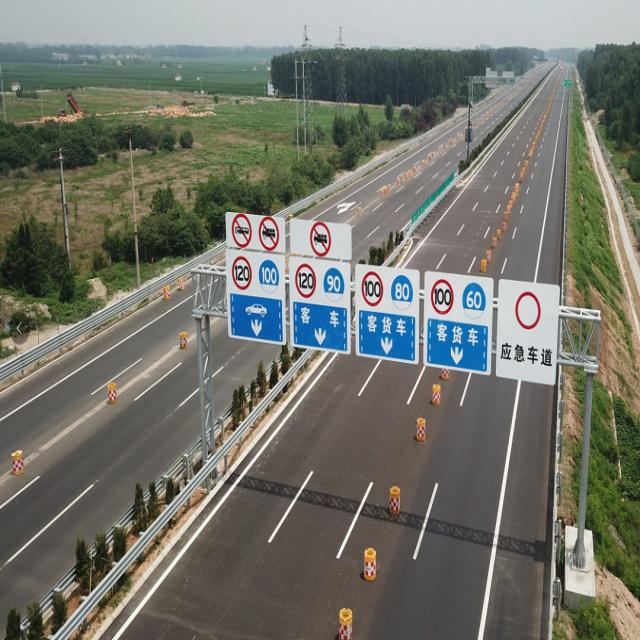speed limit 100: (432, 277, 454, 316), (258, 258, 280, 295), (362, 270, 383, 307)
speed limit 120: (230, 253, 252, 291), (294, 262, 316, 299)
speed limit 60: (461, 280, 486, 321)
speed limit 80: (392, 273, 413, 311)
speed limit 90: (323, 267, 344, 303)
